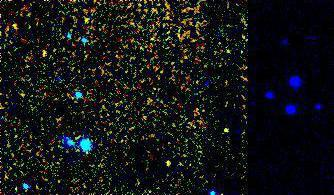star: (216, 120, 246, 150)
